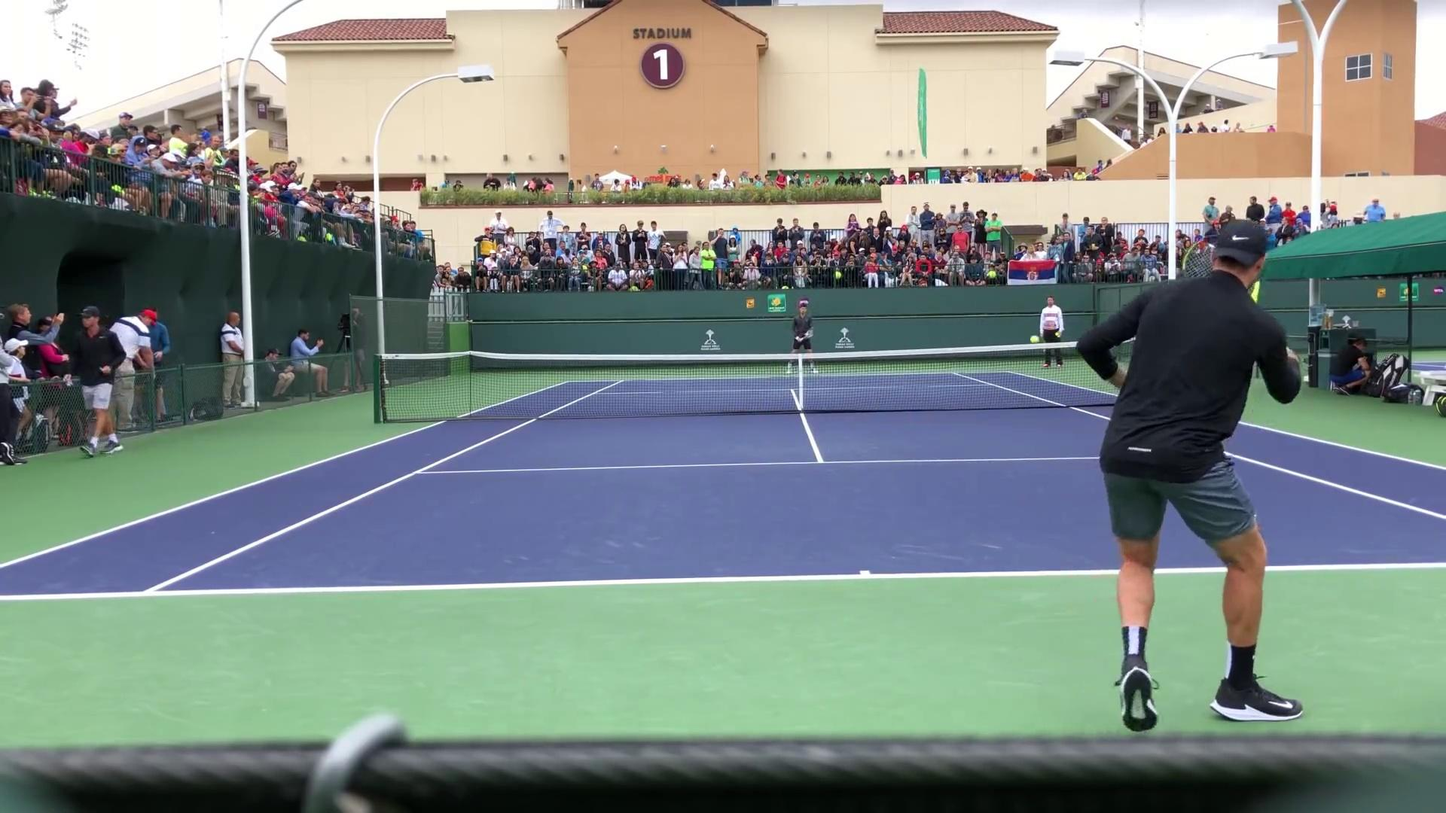ball: (1028, 335, 1040, 344)
